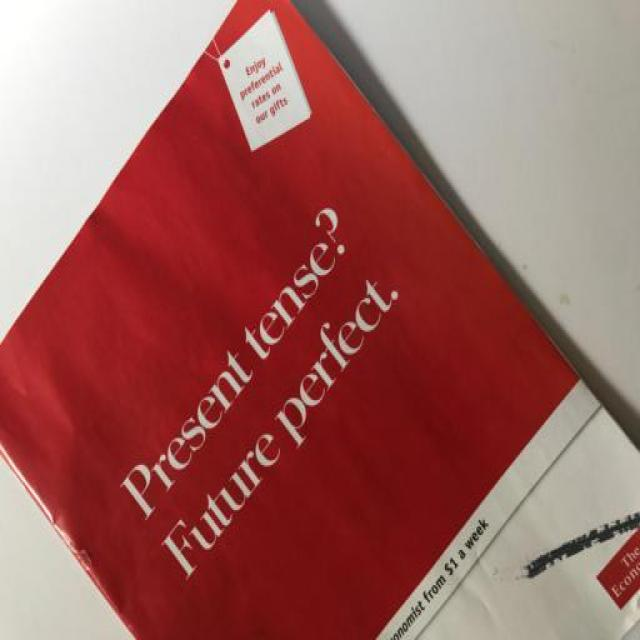paper: (3, 4, 640, 640)
